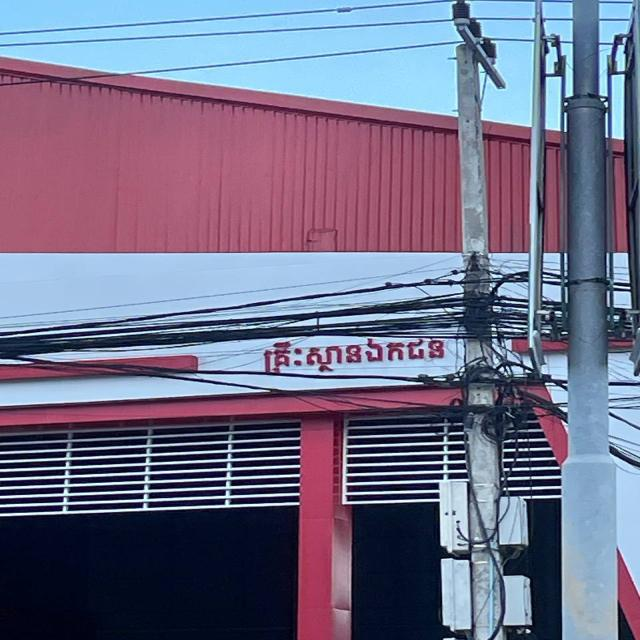Yolov11_80vkh: (257, 336, 457, 378)
